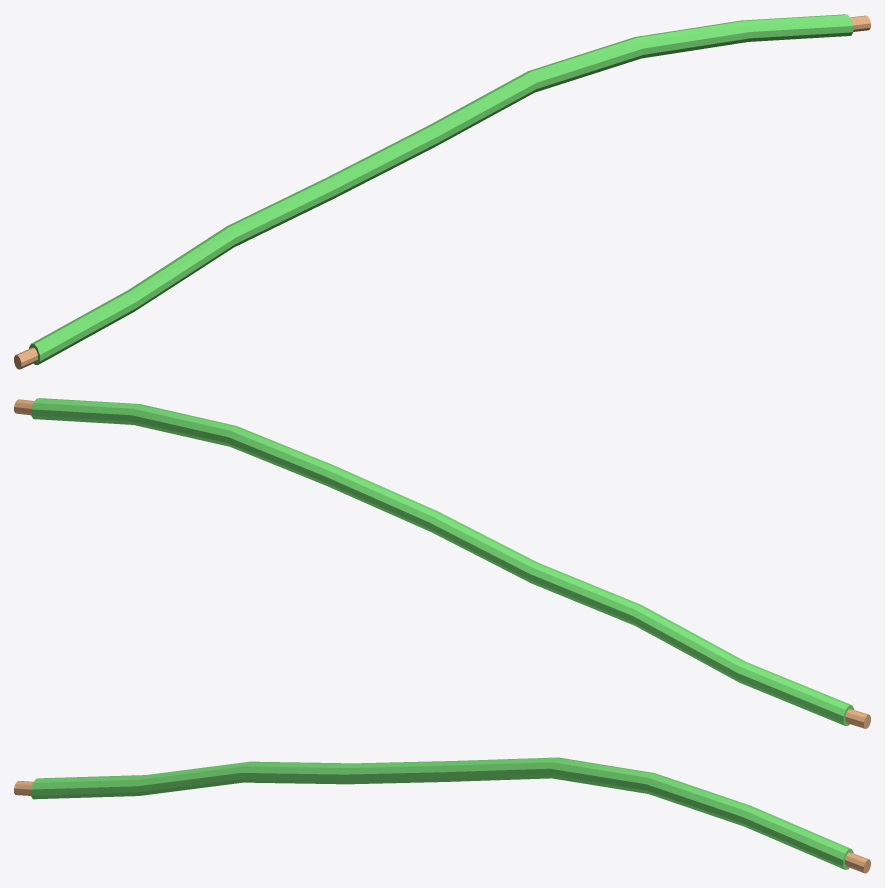
The model's file is Wire_1_Green.fbx.
3 renders of one model, top to bottom at view 1: azimuth 30°, elevation 25°; view 2: azimuth 150°, elevation 25°; view 3: azimuth 330°, elevation 25°, orthographic. The views are drawn at different scales.
Parts seen in each view (by area): view 1: polySurface233; view 2: polySurface233; view 3: polySurface233.
Part boxes in pixels (<box>): polySurface233: <box>14,14,870,369</box>; polySurface233: <box>14,398,870,728</box>; polySurface233: <box>14,757,870,873</box>.
Bounding box in the file's own units: 1.42 × 0.2624 × 0.0817.
